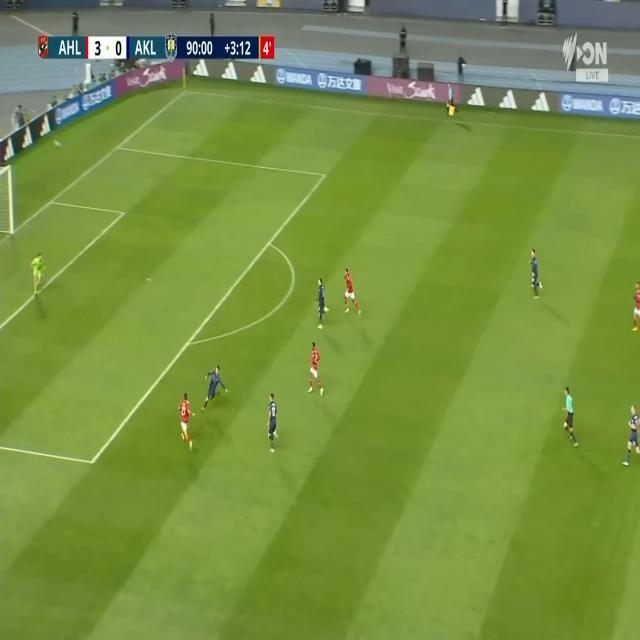Keeper: (30, 249, 49, 301)
Player: (342, 266, 363, 318), (623, 405, 640, 469), (203, 366, 228, 408), (179, 392, 196, 449), (309, 337, 325, 396), (313, 276, 328, 332), (529, 248, 543, 300), (268, 391, 278, 453), (630, 281, 640, 331)
Ref: (562, 384, 580, 449), (444, 79, 459, 114)
